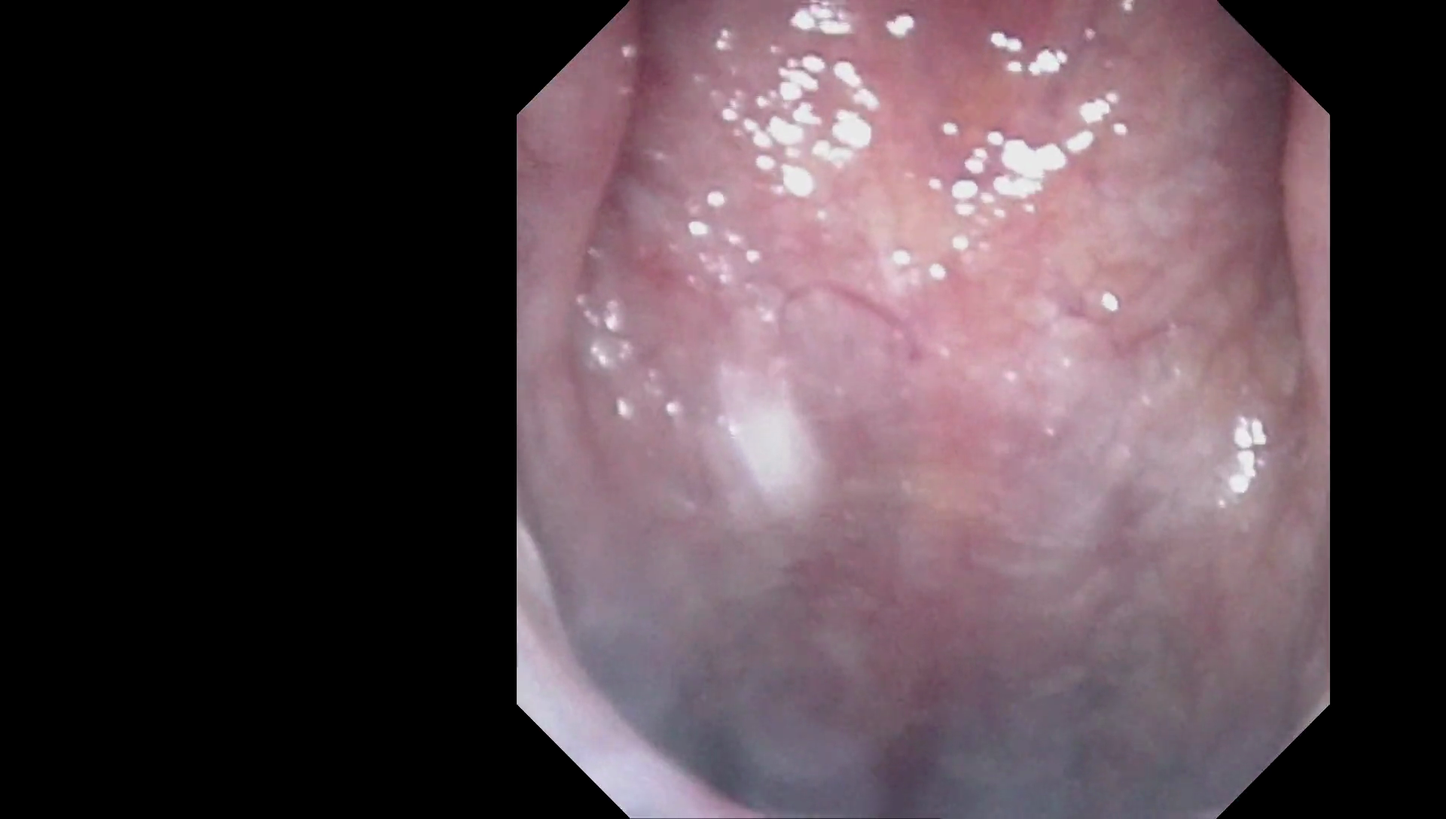close_wall: (535, 619, 766, 819)
next: (818, 654, 1044, 819), (629, 663, 798, 819)
